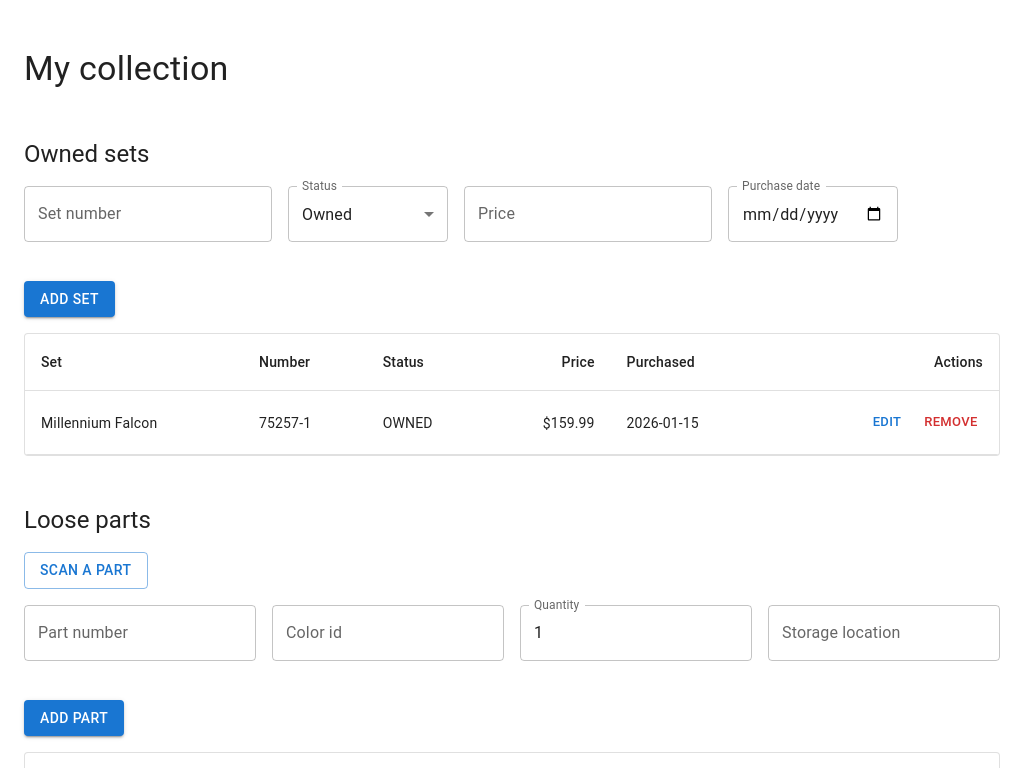
Test case: CollectionPage › opens the photo-classify dialog when Scan a part is clicked
This screenshot has width=1024, height=768.
Click the button "Scan a part": (86, 570) [24,552,148,589]
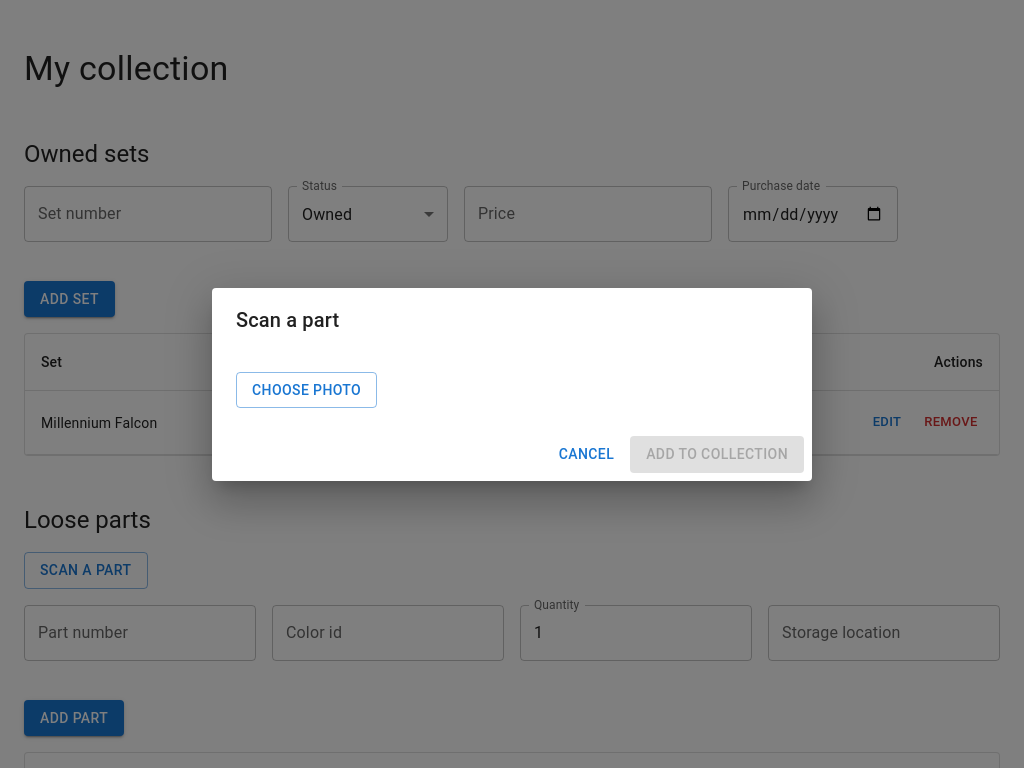
Expected: the heading "Scan a part" is shown, [236,308,339,332]
